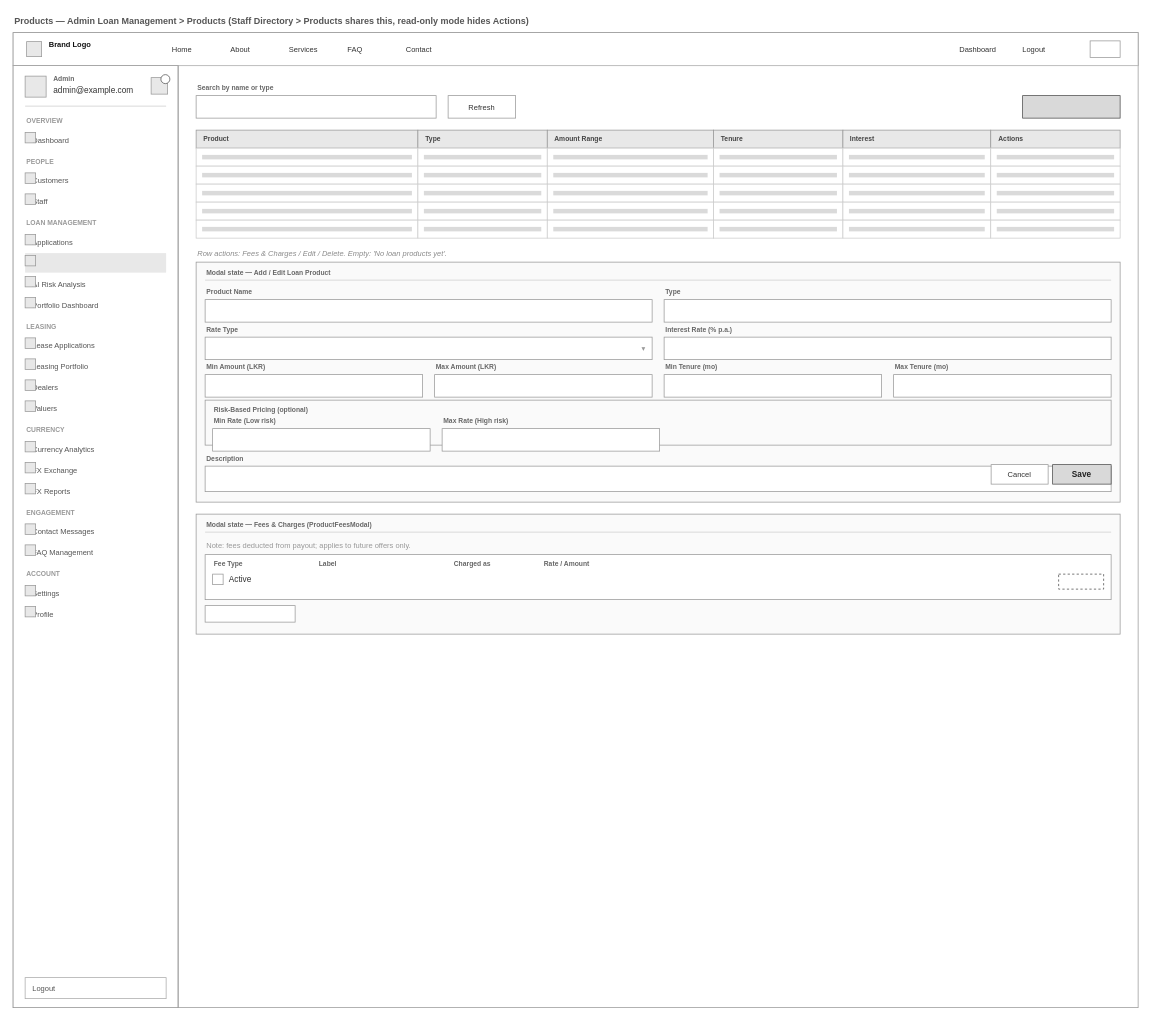
Some shapes in this 1152 by 1022 pixel diagram are drawn without their labels. The box of each missing label's shape, as (x1, y1, x2, y2) in pixels:
+ Add a fee: (204, 605, 295, 622)
Add Product: (1022, 95, 1120, 118)
EN ▾: (1089, 40, 1120, 57)
Products: (25, 253, 166, 272)
Remove: (1058, 573, 1104, 589)
